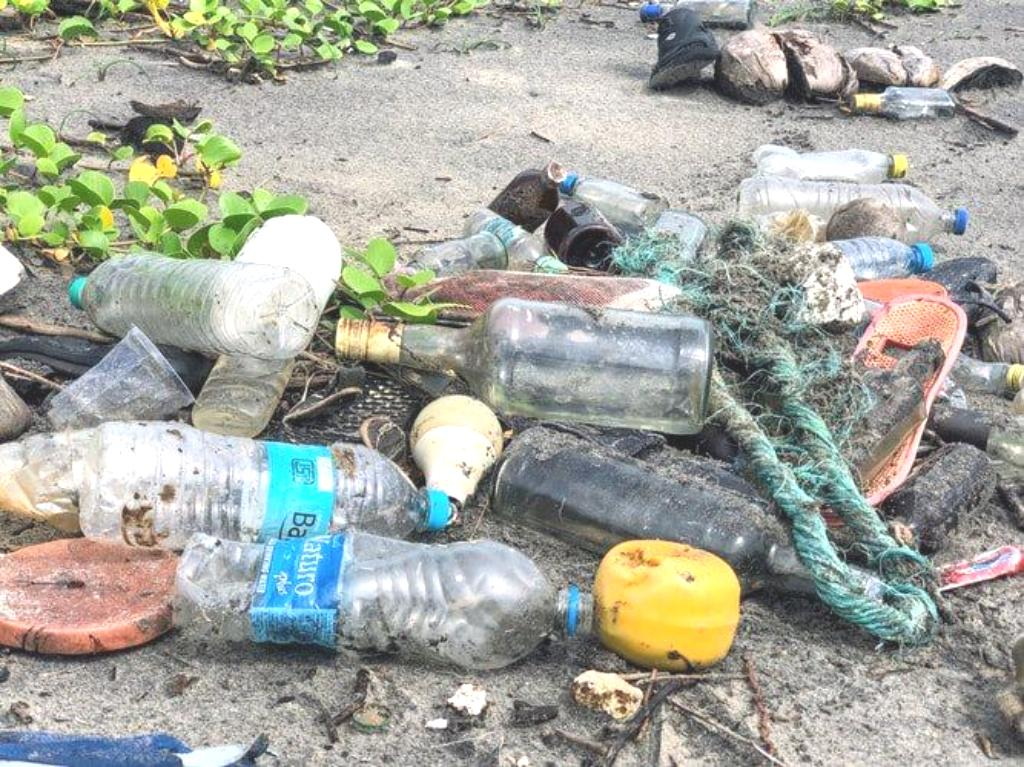garbage: (173, 531, 594, 669), (490, 425, 818, 597), (335, 298, 714, 434), (80, 421, 448, 551), (69, 253, 321, 361), (735, 177, 969, 246), (192, 353, 296, 438), (559, 173, 671, 230), (462, 207, 556, 273), (755, 144, 907, 183), (395, 232, 508, 278), (829, 236, 935, 281), (849, 86, 955, 120)
